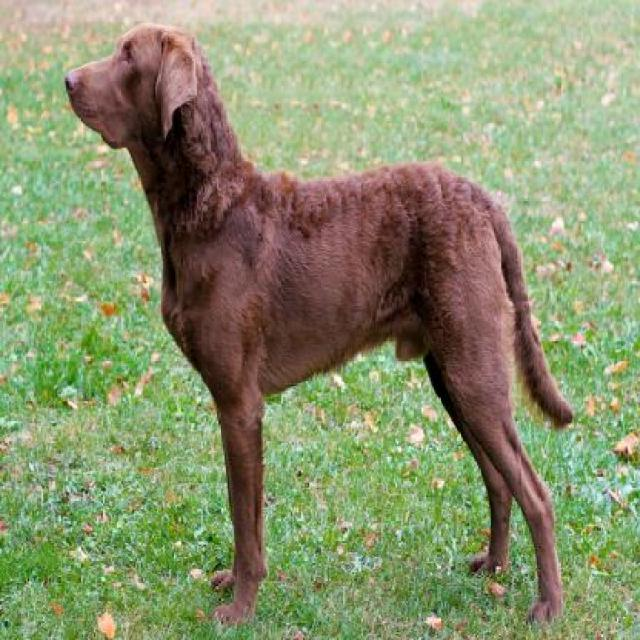animals: (51, 17, 562, 589)
